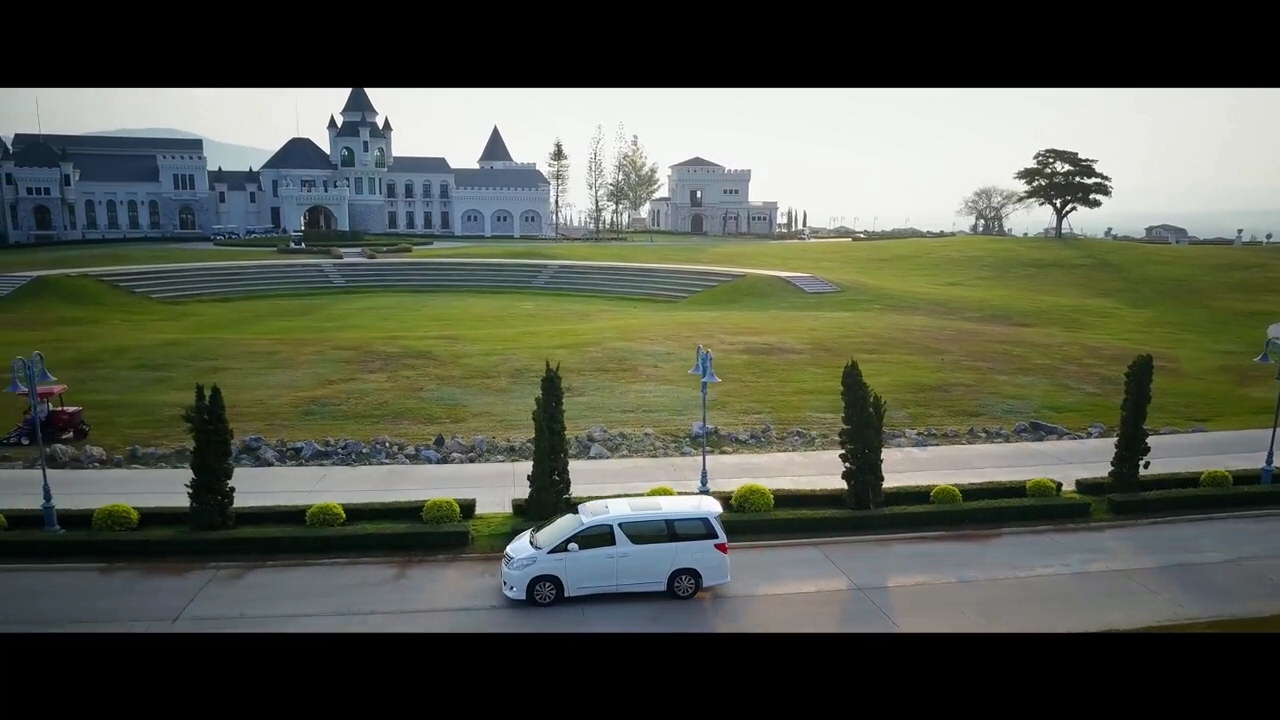araba: (497, 493, 729, 607)
